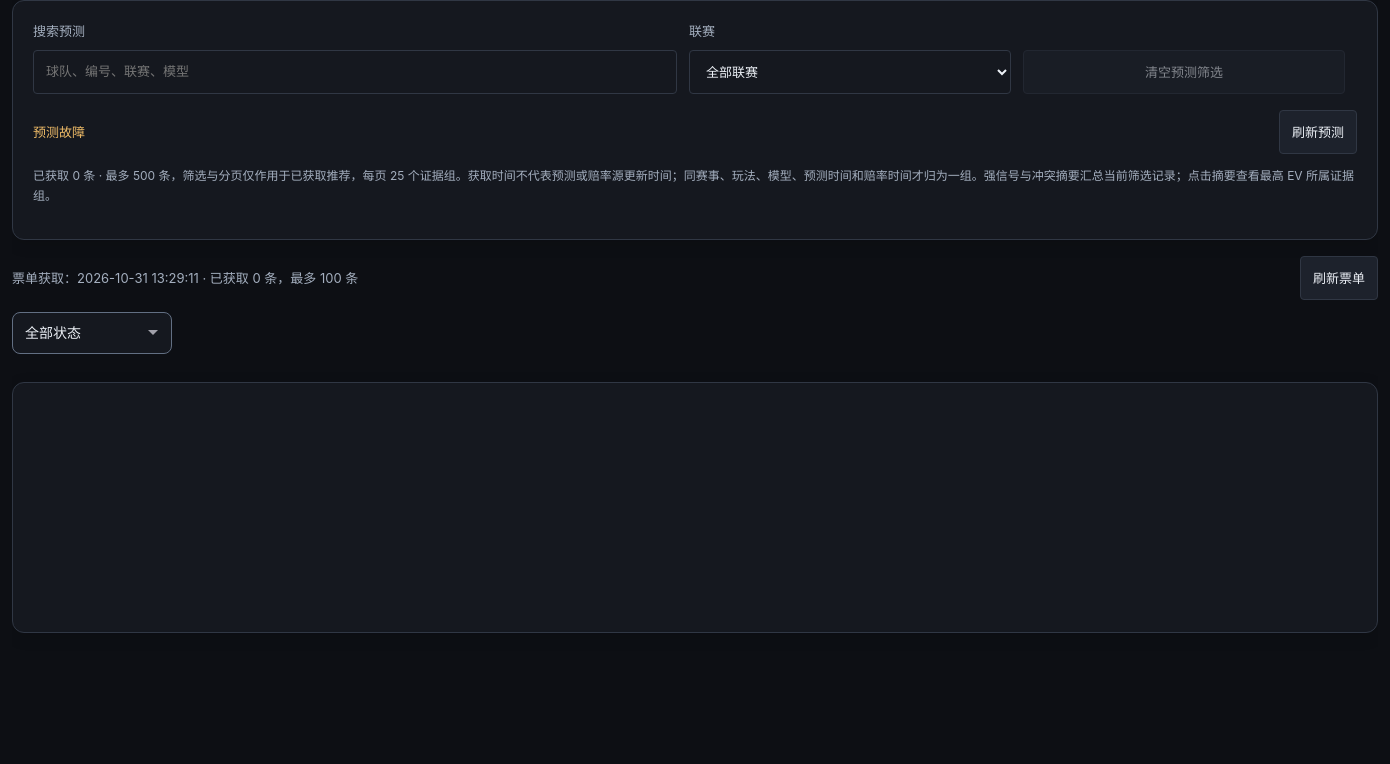
预测独立资源与证据分组 › 推荐失败有独立重试且没有伪装空数据
Check: the text "预测故障" is shown, box 33,124 -> 85,140
Click the button "刷新预测".
click(1318, 132)  # box 1279,110 -> 1357,154
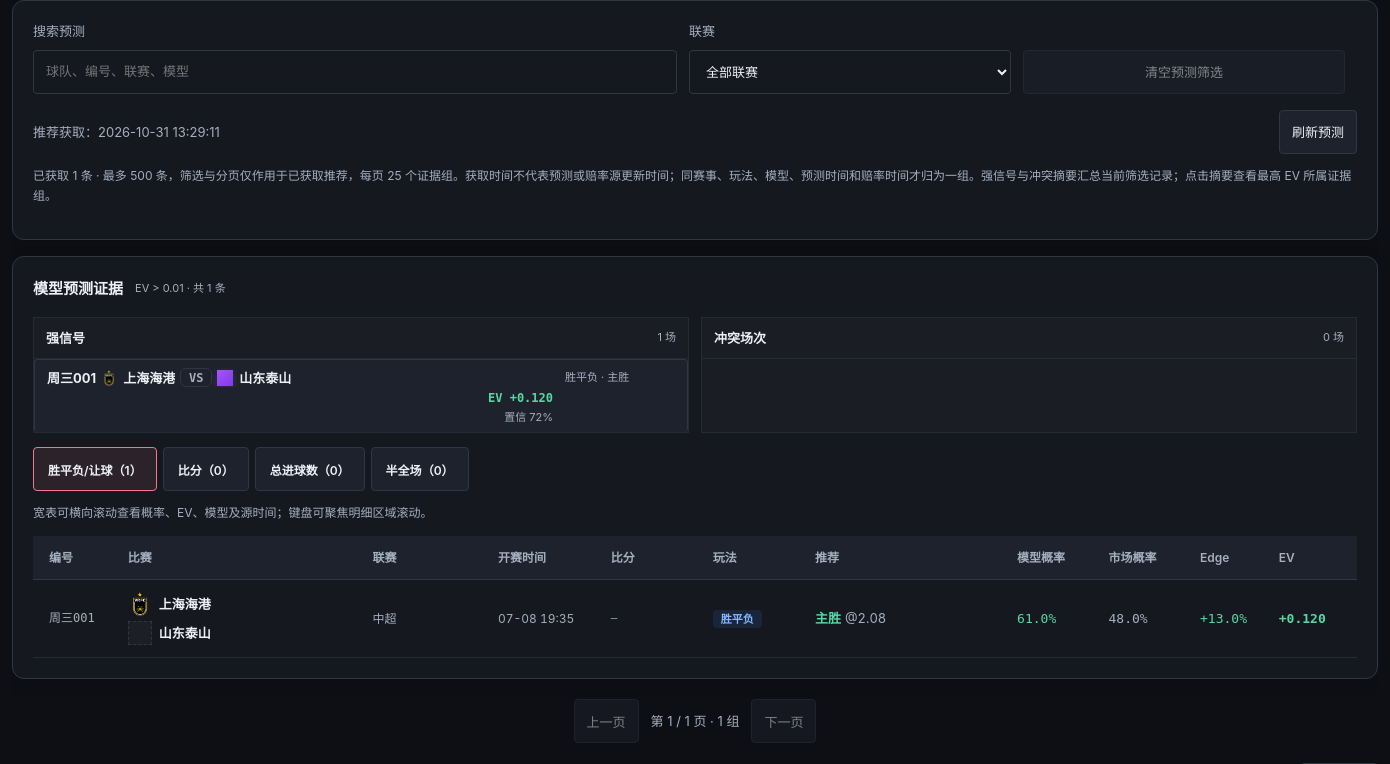
Check: the element named "上海海港 VS 山东泰山" is shown, box 128,592 -> 211,645
